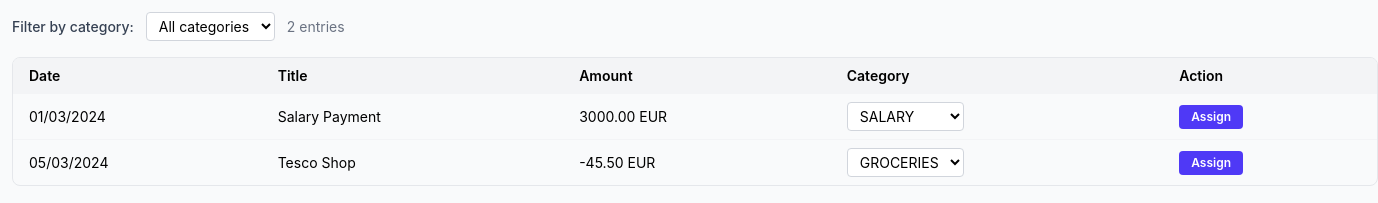
Test: EntriesPage › error state shows per-row error message on failed assign
Expected: the text "Salary Payment" is shown, [262,94,563,140]
Select "GROCERIES" in the dropdown in the row of "01/03/2024". click: (905, 116)
box: [847,102,964,131]
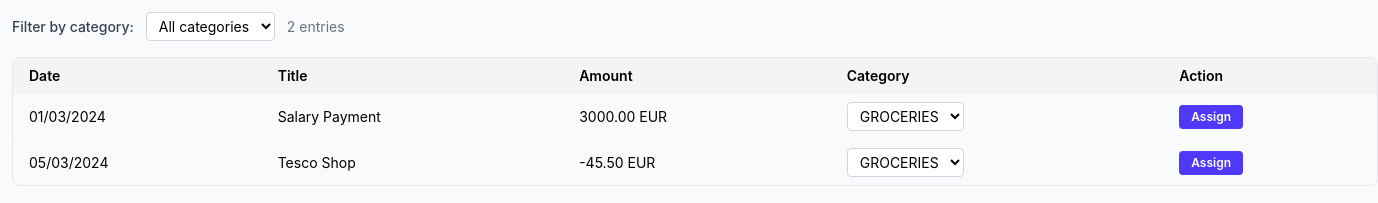
Click the button "Assign" in the row of "01/03/2024". click: (1211, 116)
box: [1179,104,1243,128]
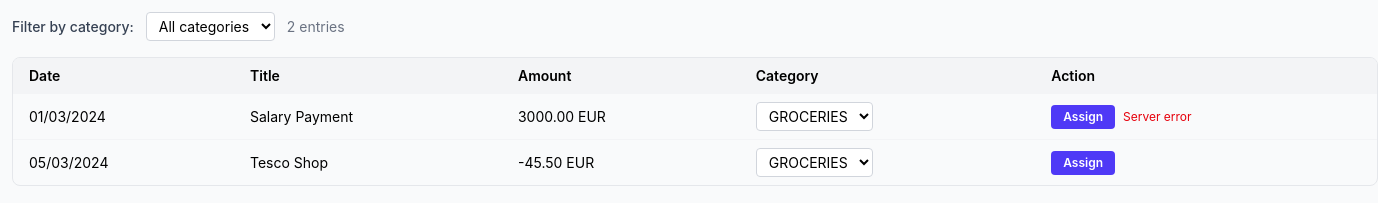
Result: the text "Server error" is shown at [1123,108,1192,124]
